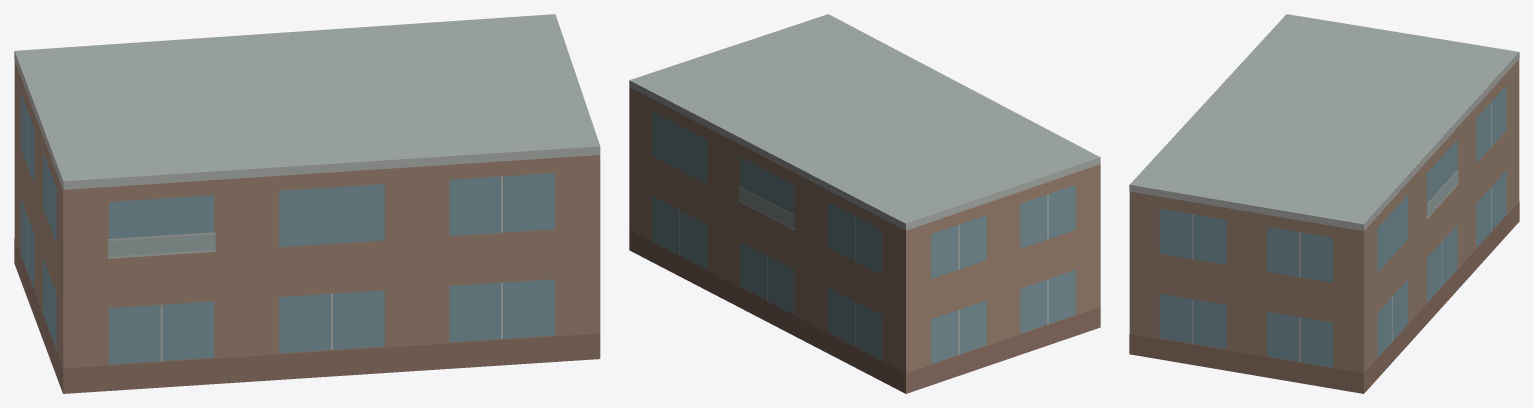
File: survey-upis-33027624.glb
The picture shows the model from 3 angles, left to right: view 1: azimuth 30°, elevation 25°; view 2: azimuth 150°, elevation 25°; view 3: azimuth 270°, elevation 25°; orthographic projection. The views are drawn at different scales.
Parts seen in each view (by area): view 1: survey-upis-33027624.tmp; view 2: survey-upis-33027624.tmp; view 3: survey-upis-33027624.tmp.
Part boxes in pixels (box(x1,y1,x2,y2)): survey-upis-33027624.tmp: box(14, 14, 600, 393); survey-upis-33027624.tmp: box(629, 14, 1100, 393); survey-upis-33027624.tmp: box(1129, 14, 1519, 393).
Bounding box in the file's own units: 16.26 × 6.1 × 12.73.
